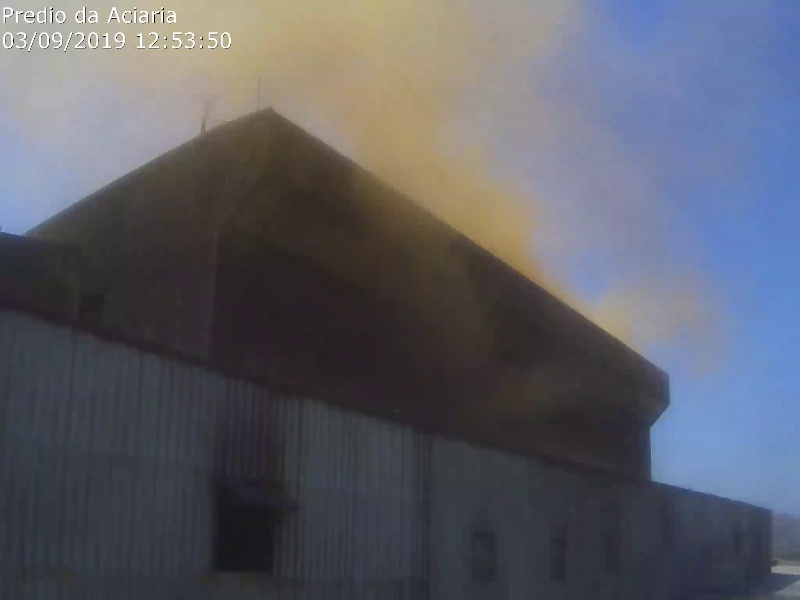Galpao: (1, 232, 671, 600)
Janela: (212, 474, 284, 573)
Pessimo: (178, 2, 321, 60), (302, 79, 407, 157), (311, 7, 418, 82), (173, 58, 308, 111), (320, 59, 398, 139), (398, 90, 479, 164), (428, 11, 507, 63), (406, 170, 464, 195), (440, 191, 498, 216), (470, 212, 528, 237), (381, 151, 440, 174)
